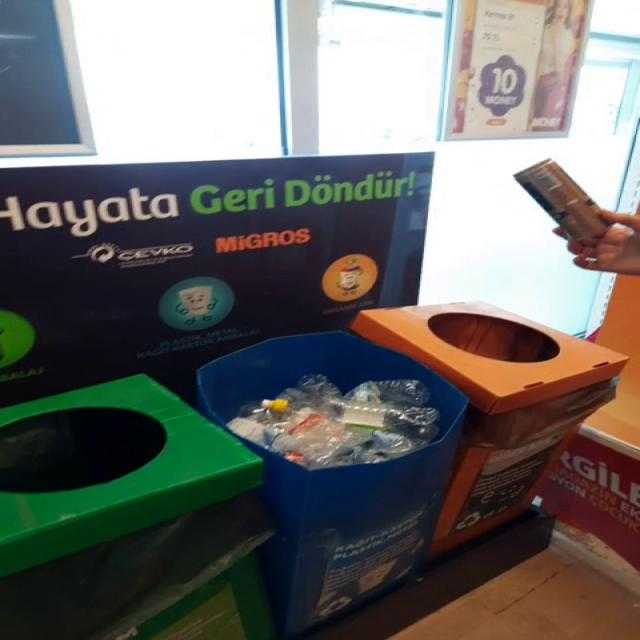metal: (515, 158, 611, 240)
